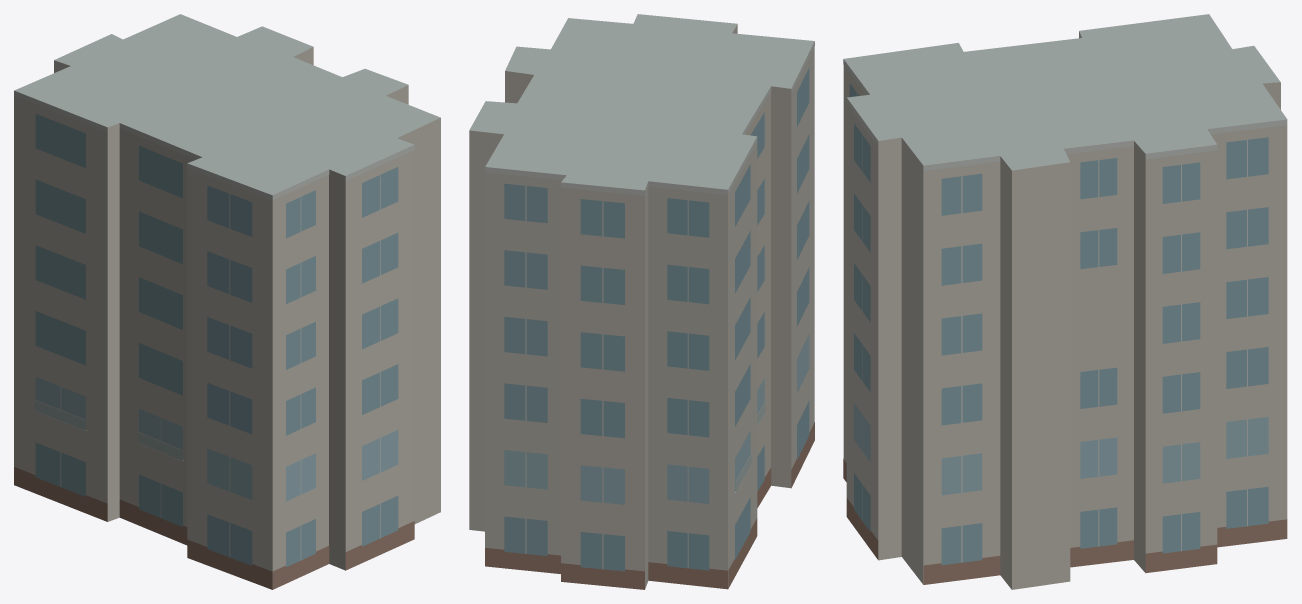
File: survey-upis-32996118.glb
The picture shows the model from 3 angles, left to right: view 1: azimuth 30°, elevation 25°; view 2: azimuth 150°, elevation 25°; view 3: azimuth 270°, elevation 25°; orthographic projection. The views are drawn at different scales.
Visible parts, largest first — view 1: survey-upis-32996118.tmp; view 2: survey-upis-32996118.tmp; view 3: survey-upis-32996118.tmp.
Boxes of the visible parts, x1=… form: survey-upis-32996118.tmp: x1=14, y1=14, x2=440, y2=589; survey-upis-32996118.tmp: x1=469, y1=14, x2=814, y2=589; survey-upis-32996118.tmp: x1=843, y1=14, x2=1287, y2=589.
Size of the model in its own units: 14.66 by 18.3 by 17.57.
